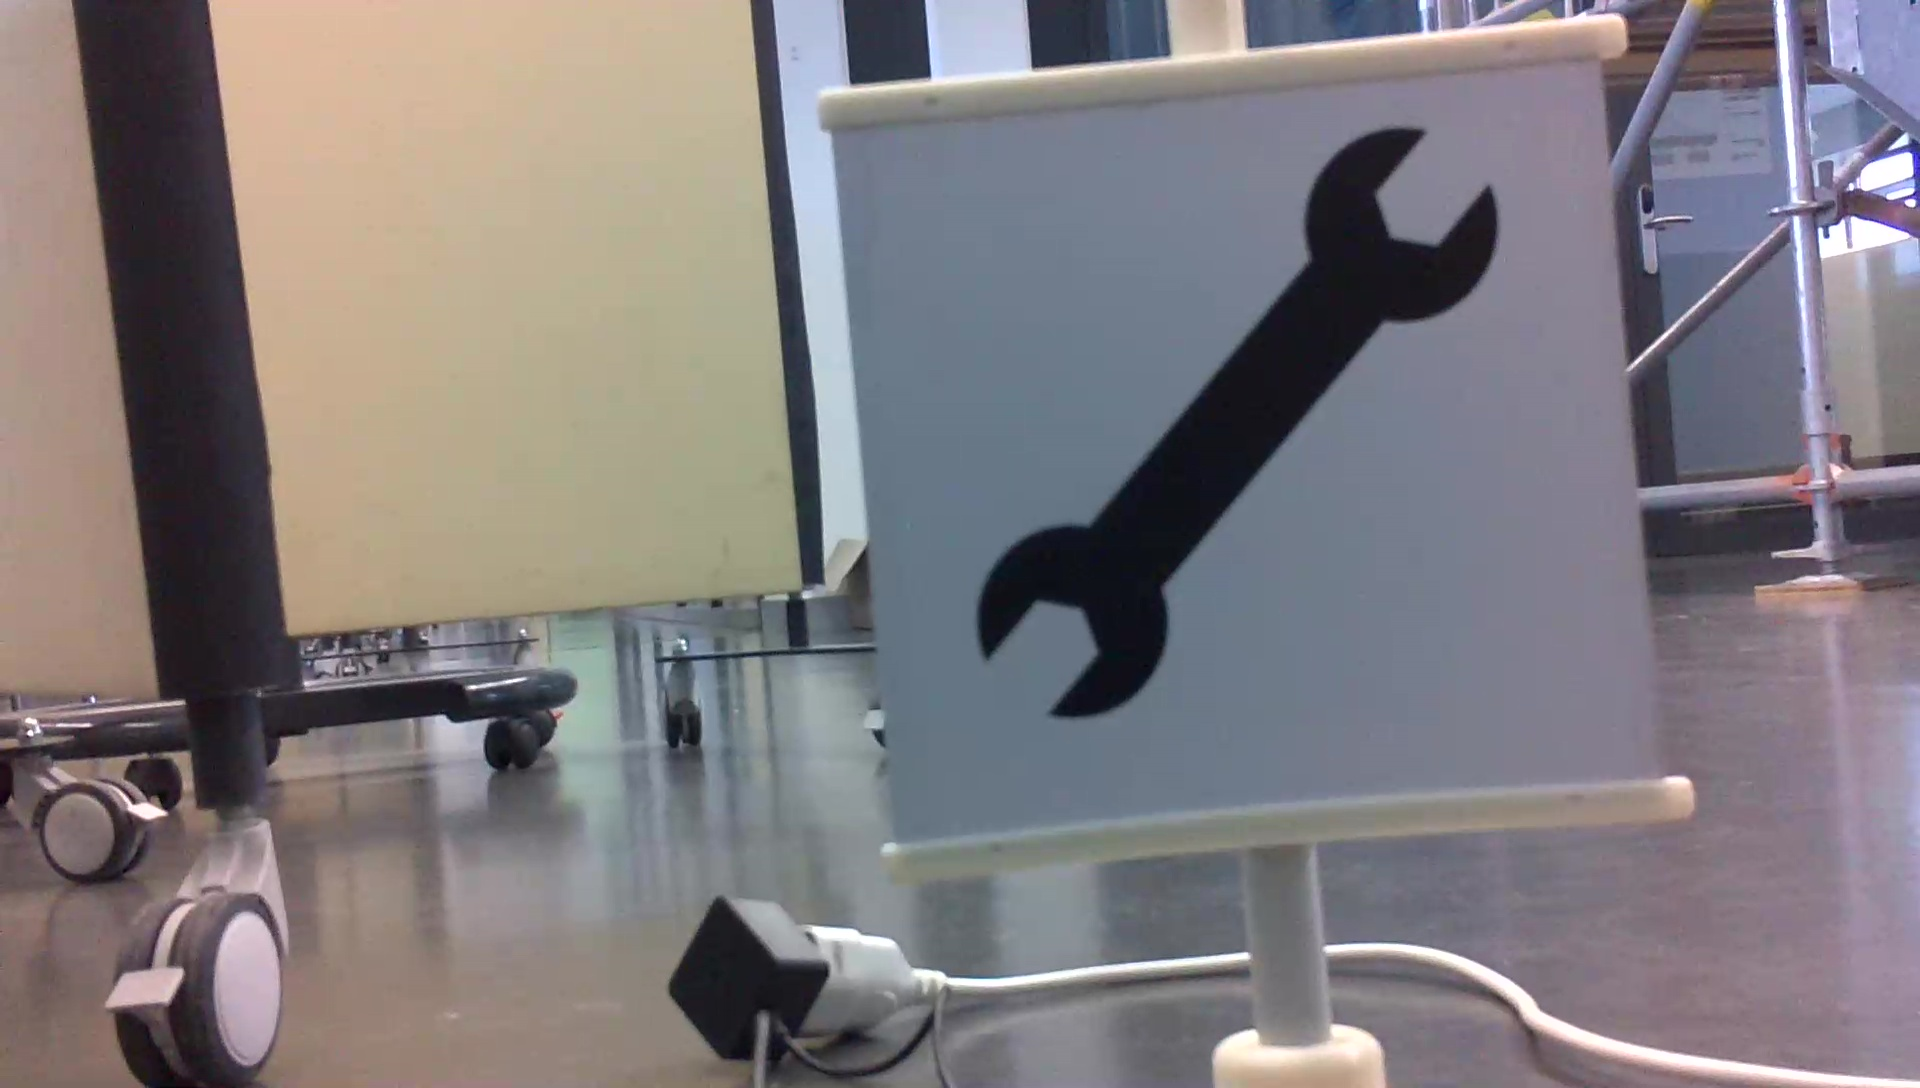wrench: (972, 115, 1509, 729)
